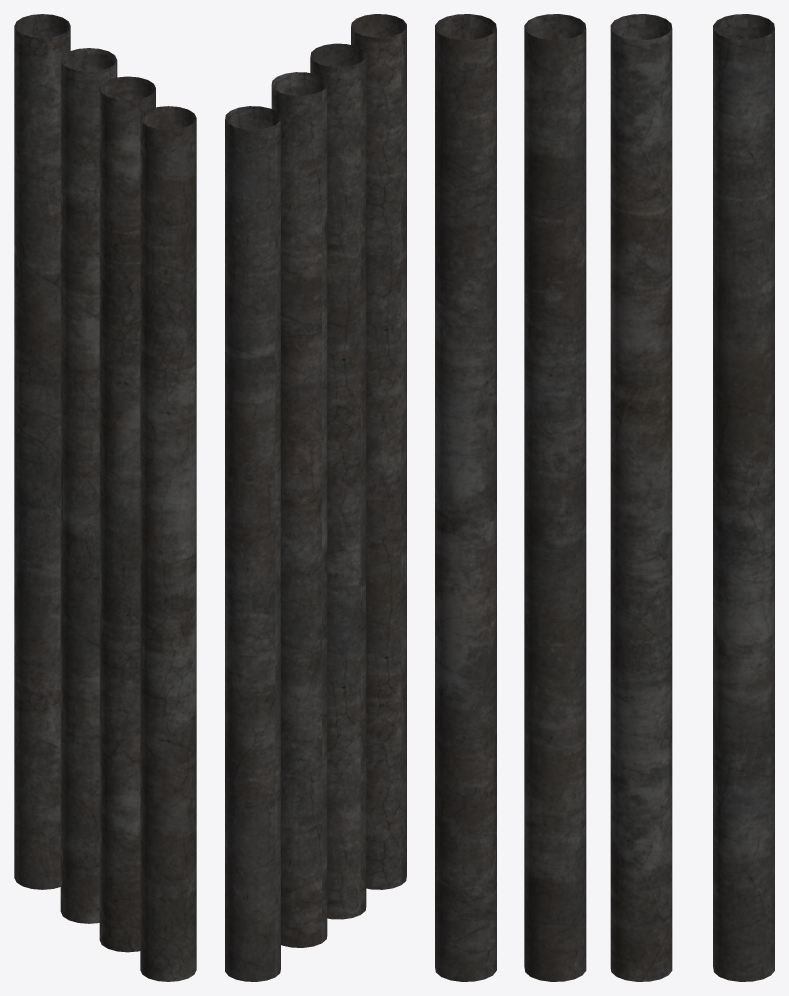
The model's file is Shaft_Pipes_C.glb.
The picture shows the model from 3 angles, left to right: view 1: azimuth 30°, elevation 25°; view 2: azimuth 150°, elevation 25°; view 3: azimuth 270°, elevation 25°; orthographic projection. The views are drawn at different scales.
Visible parts, largest first — view 1: Shaft_Pipes_C; view 2: Shaft_Pipes_C; view 3: Shaft_Pipes_C.
Boxes of the visible parts, <box> form: Shaft_Pipes_C: <box>14,14,196,981</box>; Shaft_Pipes_C: <box>225,14,406,981</box>; Shaft_Pipes_C: <box>435,14,774,981</box>.
Size of the model in its own units: 0.1487 by 2.5 by 0.8178.
Materials: 1 (1 with a texture image).
